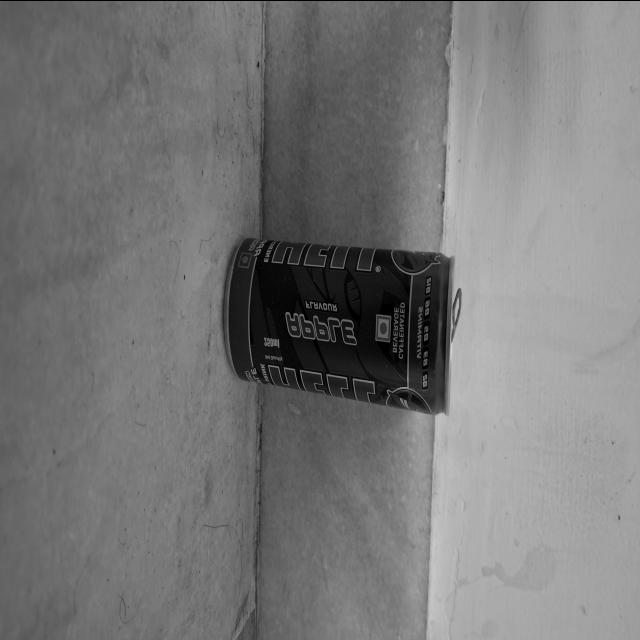Hell Apple: (218, 202, 466, 450)
